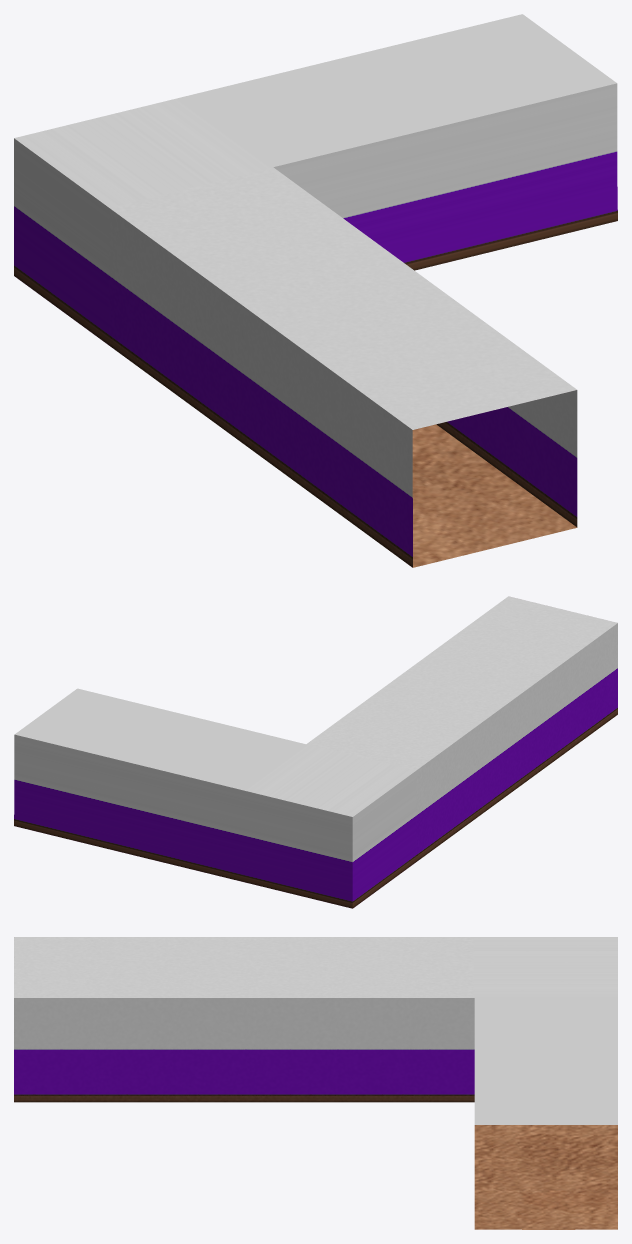
The model's file is Hallway Bend.fbx.
The picture shows the model from 3 angles, top to bottom: view 1: azimuth 30°, elevation 25°; view 2: azimuth 150°, elevation 25°; view 3: azimuth 270°, elevation 25°; orthographic projection. The views are drawn at different scales.
Parts seen in each view (by area): view 1: Hallway; view 2: Hallway; view 3: Hallway.
Part boxes in pixels (bbox=[...]): Hallway: bbox=[14, 14, 617, 567]; Hallway: bbox=[14, 596, 617, 908]; Hallway: bbox=[14, 937, 617, 1229].
Bounding box in the file's own units: 1549 × 400 × 2098.
